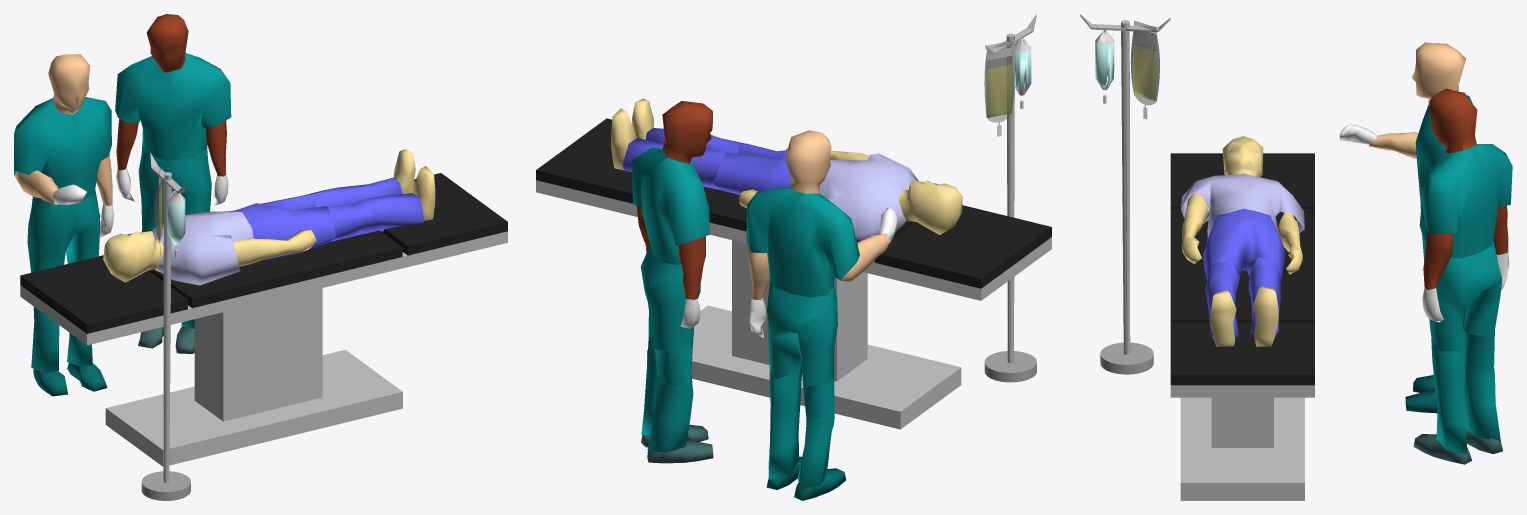
File: tratamento.fbx
3 renders of one model, left to right at view 1: azimuth 30°, elevation 25°; view 2: azimuth 150°, elevation 25°; view 3: azimuth 270°, elevation 25°, orthographic. The views are drawn at different scales.
Visible parts, largest first — view 1: Component_1_1, G_3D_Man_Standing_7_1, G_3D_Man_Standing_1_1, G_3D_Man_Standing_4_1, Component_3_1, Component_2_1; view 2: Component_1_1, G_3D_Man_Standing_7_1, G_3D_Man_Standing_4_1, G_3D_Man_Standing_1_1, Component_3_1, Component_2_1; view 3: Component_1_1, G_3D_Man_Standing_4_1, G_3D_Man_Standing_1_1, G_3D_Man_Standing_7_1, Component_3_1, Component_2_1.
Part boxes in pixels (x1=…): Component_1_1: x1=20, y1=173, x2=507, y2=466; G_3D_Man_Standing_7_1: x1=14, y1=54, x2=114, y2=396; G_3D_Man_Standing_1_1: x1=103, y1=149, x2=435, y2=285; G_3D_Man_Standing_4_1: x1=115, y1=14, x2=231, y2=353; Component_3_1: x1=141, y1=152, x2=190, y2=500; Component_2_1: x1=154, y1=164, x2=163, y2=255; Component_1_1: x1=536, y1=118, x2=1051, y2=429; G_3D_Man_Standing_7_1: x1=746, y1=130, x2=897, y2=500; G_3D_Man_Standing_4_1: x1=631, y1=101, x2=713, y2=463; G_3D_Man_Standing_1_1: x1=611, y1=98, x2=962, y2=240; Component_3_1: x1=984, y1=14, x2=1036, y2=382; Component_2_1: x1=984, y1=41, x2=1013, y2=136; Component_1_1: x1=1170, y1=153, x2=1314, y2=500; G_3D_Man_Standing_4_1: x1=1413, y1=88, x2=1512, y2=464; G_3D_Man_Standing_1_1: x1=1180, y1=136, x2=1304, y2=346; G_3D_Man_Standing_7_1: x1=1339, y1=42, x2=1472, y2=413; Component_3_1: x1=1080, y1=14, x2=1170, y2=374; Component_2_1: x1=1130, y1=20, x2=1159, y2=119.
Bounding box in the file's own units: 95.48 × 72.77 × 78.8.
